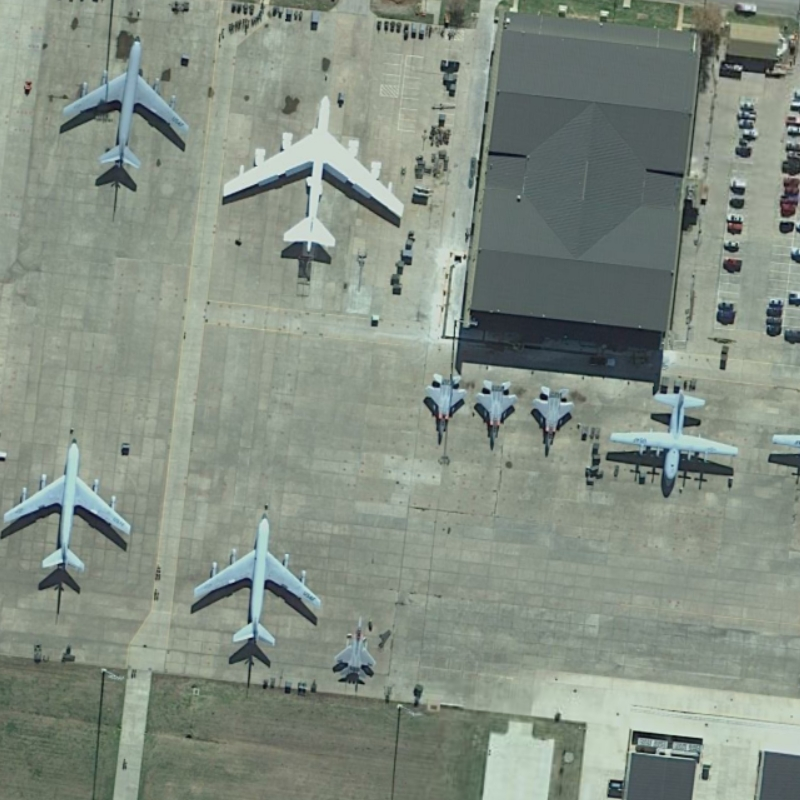A11: (185, 509, 324, 655), (1, 439, 134, 571)
A13: (329, 609, 382, 694), (420, 368, 472, 449), (473, 376, 524, 456), (527, 379, 579, 454)
A14: (54, 31, 190, 183)
A2: (604, 380, 742, 501)
A8: (216, 87, 410, 269)
